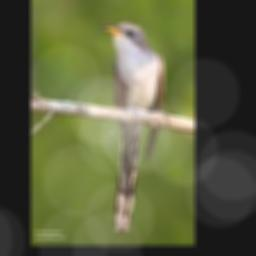Cuckoo: (99, 22, 166, 232)
